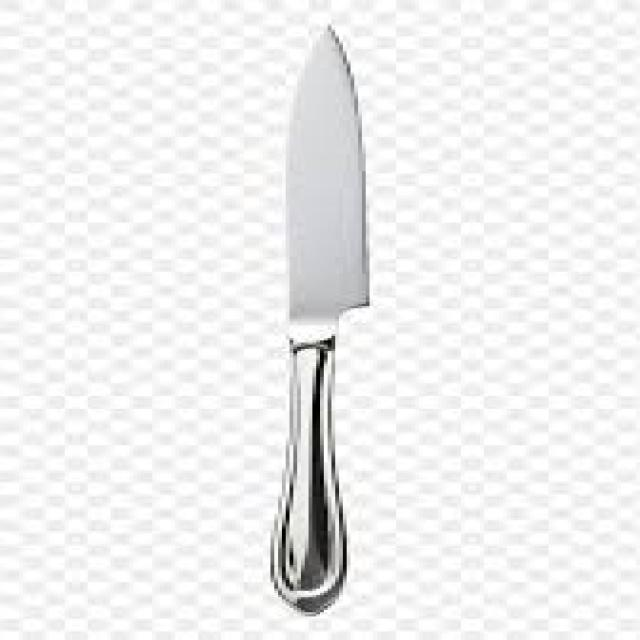Knife: (266, 22, 370, 614)
